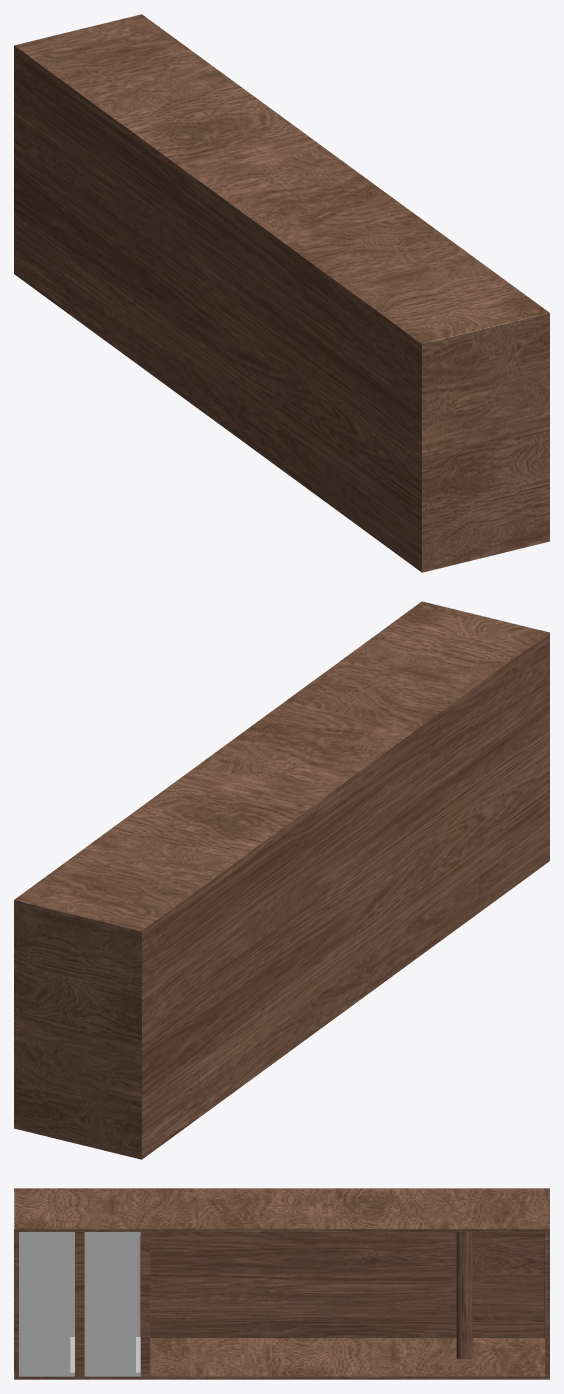
Rendered from WardrobeBD1.fbx.
3 renders of one model, top to bottom at view 1: azimuth 30°, elevation 25°; view 2: azimuth 150°, elevation 25°; view 3: azimuth 270°, elevation 25°, orthographic. The views are drawn at different scales.
Visible parts, largest first — view 1: Cube.057; view 2: Cube.057; view 3: Cube.057.
Boxes of the visible parts, x1,y1,x2,y2 form: Cube.057: [14, 14, 549, 572]; Cube.057: [14, 601, 549, 1159]; Cube.057: [14, 1188, 549, 1379].
Size of the model in its own units: 36.19 by 61.8 by 200.
1 material, 1 textured.
